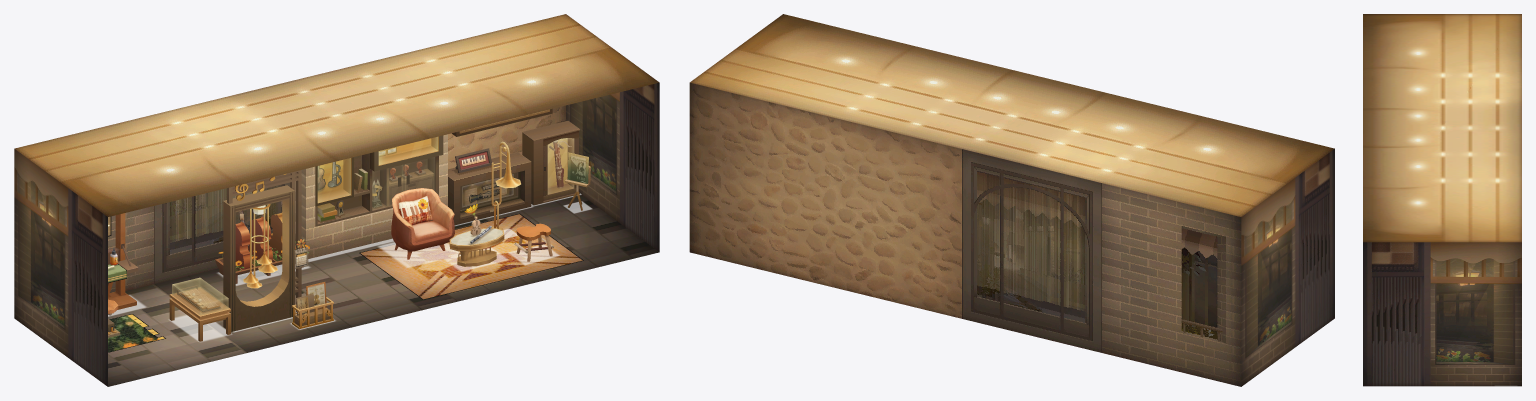
The model's file is musicalStore.glb.
3 renders of one model, left to right at view 1: azimuth 30°, elevation 25°; view 2: azimuth 150°, elevation 25°; view 3: azimuth 270°, elevation 25°, orthographic. The views are drawn at different scales.
Visible parts, largest first — view 1: ROOM_room, ROOM_floor, furni_musicalStore_violin_01, furni_musicalStore_partitionWall_01, furni_musicalStore_carpet_02, furni_musicalStore_clarinet_01, furni_musicalStore_violin_02, furni_musicalStore_bassoon_01, furni_musicalStore_sofa_01, furni_musicalStore_cello_01, furni_musicalStore_xylophone_01, furni_musicalStore_coffeetable_01 (+13 smaller); view 2: ROOM_room, ROOM_LDoor; view 3: ROOM_room, ROOM_RDoor.
Boxes of the visible parts, x1,y1,x2,y2 form: ROOM_room: (14,14,659,386); ROOM_floor: (108,194,659,386); furni_musicalStore_violin_01: (295,134,447,258); furni_musicalStore_partitionWall_01: (223,170,301,331); furni_musicalStore_carpet_02: (359,213,583,299); furni_musicalStore_clarinet_01: (448,148,531,225); furni_musicalStore_violin_02: (317,137,438,209); furni_musicalStore_bassoon_01: (522,121,579,205); furni_musicalStore_sofa_01: (391,188,454,259); furni_musicalStore_cello_01: (215,201,307,283); furni_musicalStore_xylophone_01: (169,285,230,341); furni_musicalStore_coffeetable_01: (449,212,504,266); ROOM_room: (689,14,1334,386); ROOM_LDoor: (1302,251,1321,342); ROOM_room: (1363,14,1521,386); ROOM_RDoor: (1386,321,1418,386).
Size of the model in its own units: 7.53 by 2.2 by 2.2.
Materials: 6 (6 with a texture image).
